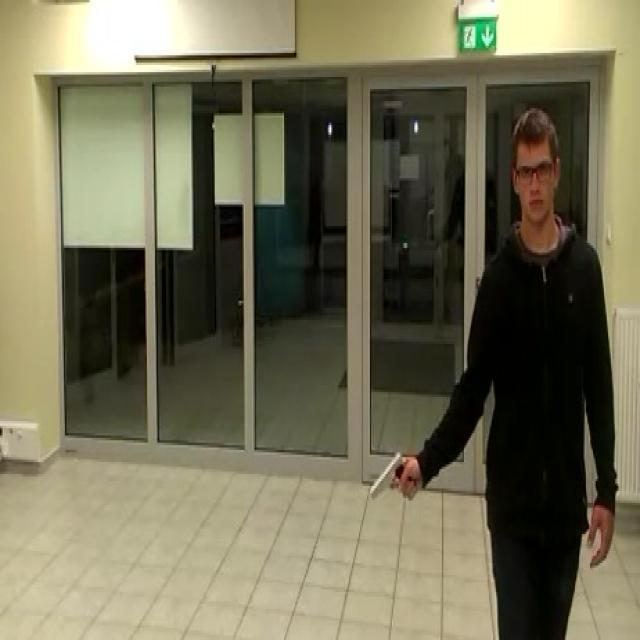pistol: (361, 447, 429, 506)
